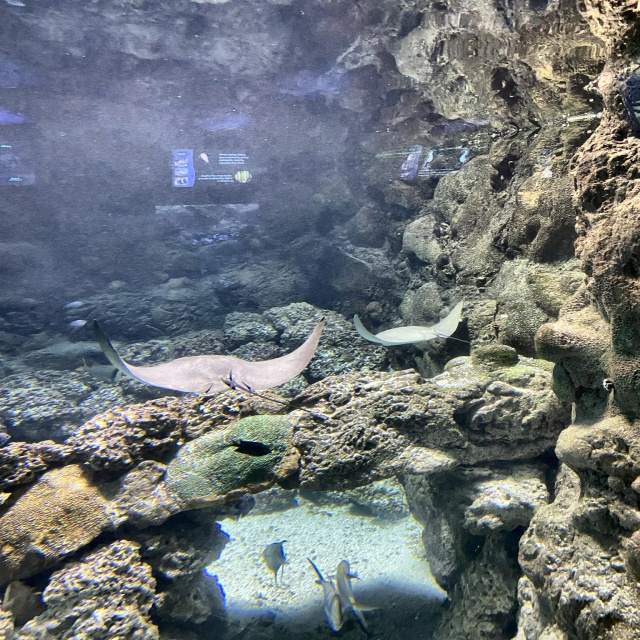fish: (309, 558, 343, 631), (334, 560, 377, 612), (263, 540, 289, 573), (231, 439, 271, 456), (233, 494, 255, 521)
stingray: (92, 319, 322, 395), (354, 301, 463, 346)
